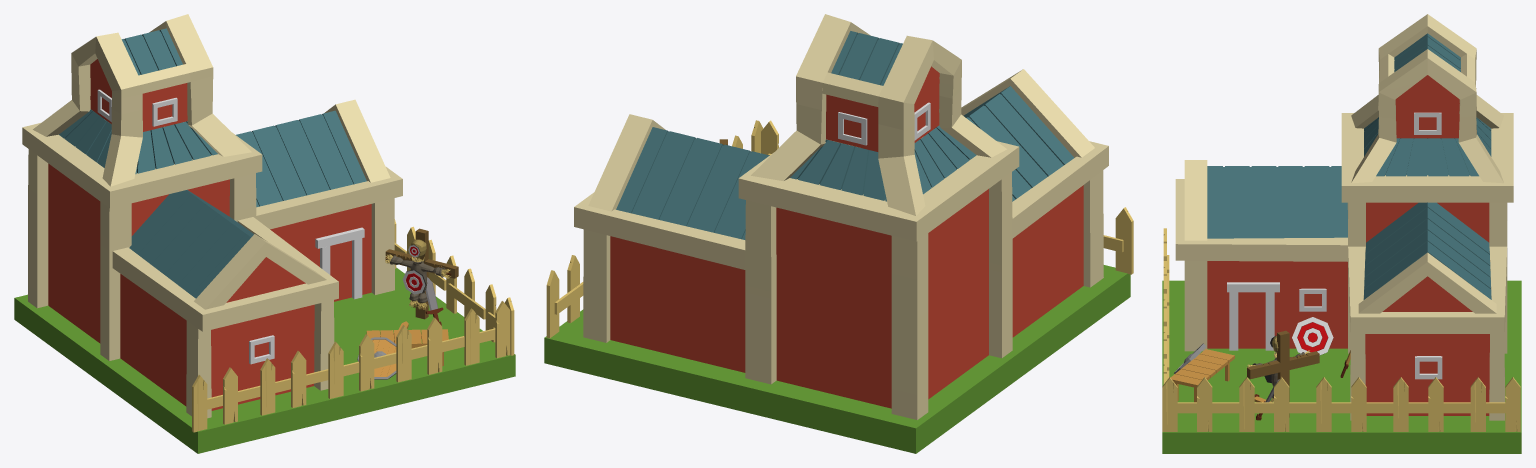
Rendered from kisla.fbx.
3 views of the same model, side by side, from view 1: azimuth 30°, elevation 25°; view 2: azimuth 150°, elevation 25°; view 3: azimuth 270°, elevation 25° (orthographic). The views are drawn at different scales.
Parts seen in each view (by area): view 1: Cube, Plane, Cube.001, Cube.009, Cube.045, Cube.002, Cube.006, Cube.005, Cube.007, Cube.003, Cube.004, Cube.046 (+6 smaller); view 2: Cube, Cube.001, Plane, Cube.009, Cube.002, Cube.007, Cube.003, Cube.005, Cube.004, Cube.006, Cube.008, Cube.046 (+3 smaller); view 3: Cube, Plane, Cube.009, Cube.001, Cube.046, Cube.002, Cube.004, Cube.003, Cube.006, Cube.005, Cube.007, Cube.011 (+8 smaller).
Boxes of the visible parts, left/top/right/bottom form: Cube: left=48, top=59, right=371, bottom=410; Plane: left=14, top=267, right=515, bottom=453; Cube.001: left=28, top=14, right=256, bottom=360; Cube.009: left=129, top=110, right=366, bottom=298; Cube.045: left=192, top=301, right=510, bottom=432; Cube.002: left=22, top=123, right=262, bottom=208; Cube.006: left=112, top=217, right=338, bottom=331; Cube.005: left=186, top=234, right=334, bottom=418; Cube.007: left=59, top=109, right=217, bottom=174; Cube.003: left=324, top=99, right=394, bottom=294; Cube.004: left=256, top=167, right=402, bottom=229; Cube.046: left=394, top=219, right=514, bottom=355; Cube: left=610, top=66, right=1083, bottom=408; Cube.001: left=745, top=14, right=1012, bottom=419; Plane: left=544, top=265, right=1130, bottom=453; Cube.009: left=616, top=86, right=1073, bottom=239; Cube.002: left=738, top=137, right=1019, bottom=241; Cube.007: left=790, top=125, right=976, bottom=201; Cube.003: left=583, top=114, right=665, bottom=342; Cube.005: left=961, top=69, right=1103, bottom=287; Cube.004: left=574, top=192, right=745, bottom=269; Cube.006: left=1012, top=141, right=1108, bottom=238; Cube.008: left=831, top=31, right=902, bottom=85; Cube.046: left=546, top=120, right=763, bottom=338; Cube: left=1207, top=75, right=1489, bottom=415; Plane: left=1162, top=280, right=1521, bottom=453; Cube.009: left=1207, top=166, right=1491, bottom=299; Cube.001: left=1347, top=14, right=1507, bottom=353; Cube.046: left=1162, top=377, right=1520, bottom=431; Cube.002: left=1341, top=113, right=1513, bottom=202; Cube.004: left=1348, top=246, right=1507, bottom=333; Cube.003: left=1350, top=252, right=1504, bottom=420; Cube.006: left=1175, top=179, right=1347, bottom=261; Cube.005: left=1184, top=160, right=1207, bottom=351; Cube.007: left=1364, top=117, right=1491, bottom=176; Cube.011: left=1227, top=282, right=1279, bottom=350.
Bounding box in the file's own units: 707 × 653 × 700.
